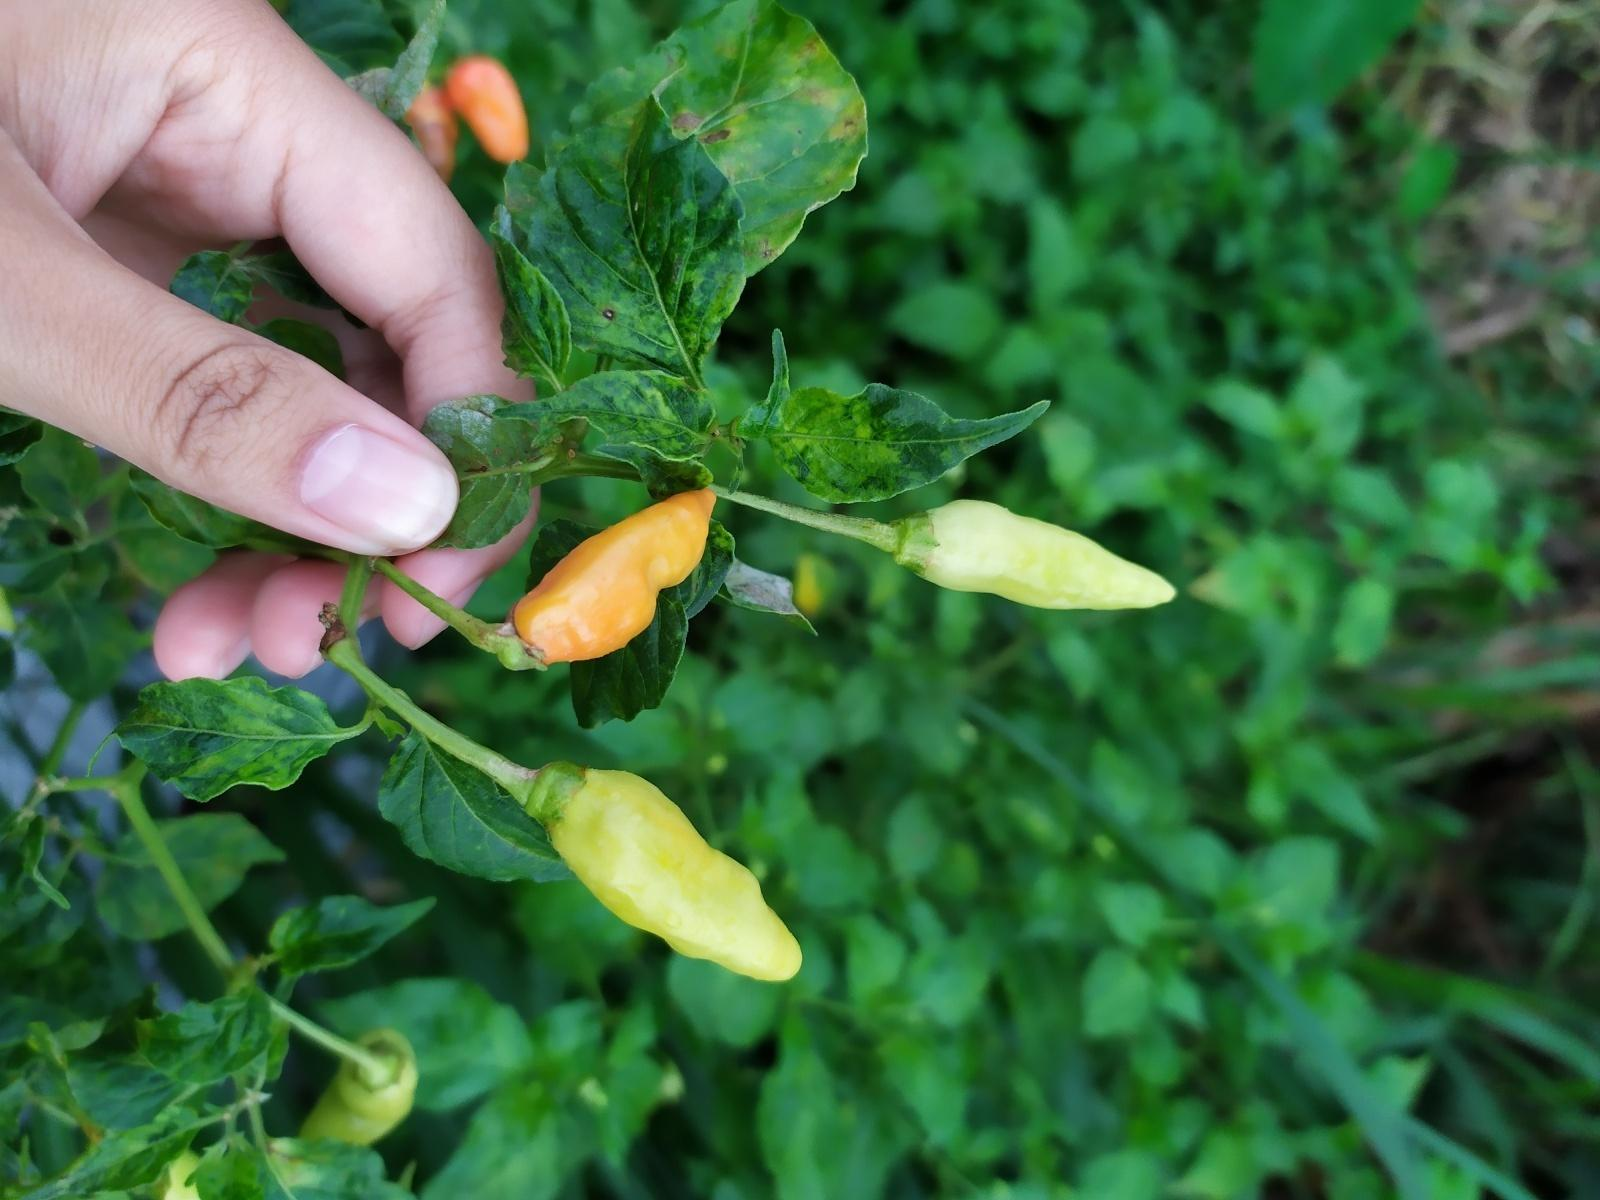cabai_normal: (547, 766, 801, 982), (511, 489, 719, 666), (906, 500, 1178, 612), (295, 1028, 418, 1149), (451, 56, 533, 166)
